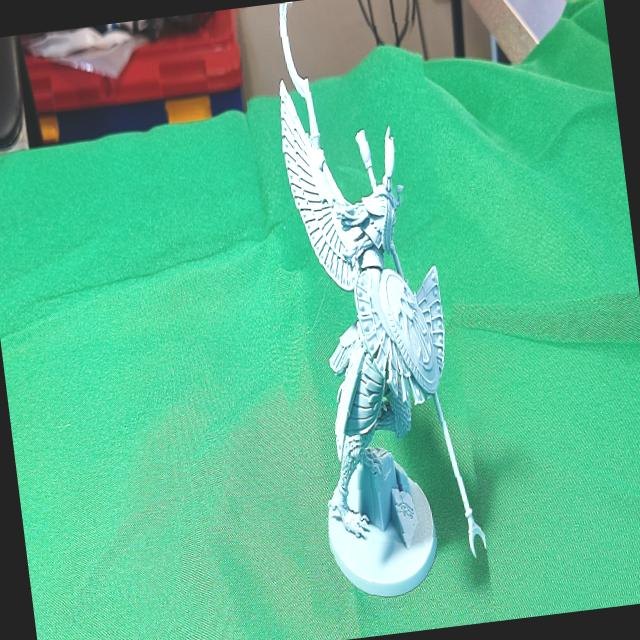isis: (235, 0, 493, 640)
